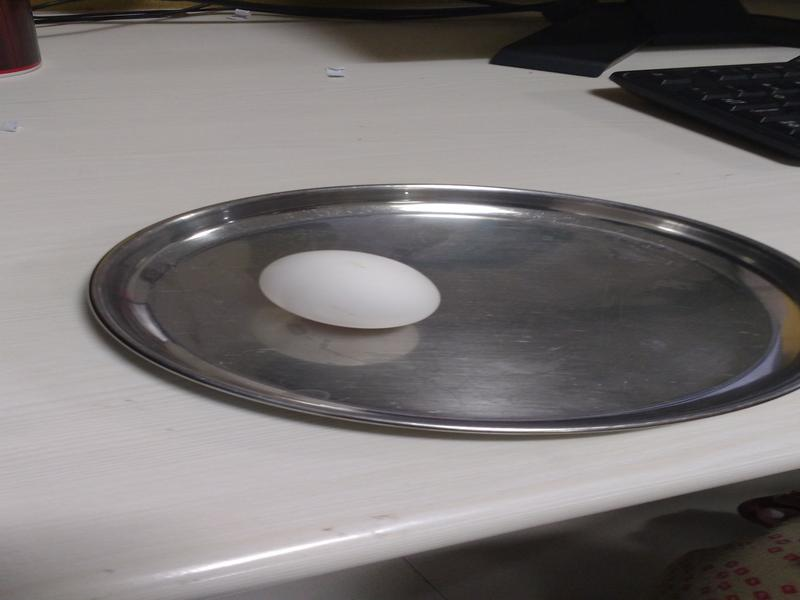egg: (266, 247, 436, 338)
